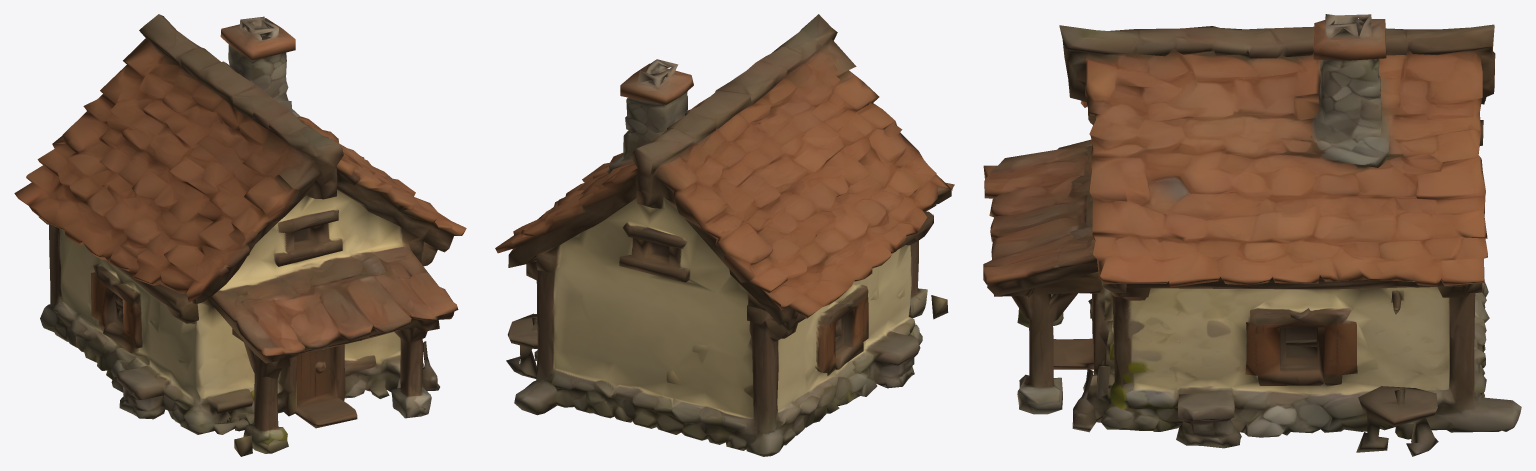
File: tripo_workshop.glb
3 views of the same model, side by side, from view 1: azimuth 30°, elevation 25°; view 2: azimuth 150°, elevation 25°; view 3: azimuth 270°, elevation 25° (orthographic). The views are drawn at different scales.
Parts seen in each view (by area): view 1: tripo_node_464bb2dd-c194-4cc4-9e9e-455e18cf1d54; view 2: tripo_node_464bb2dd-c194-4cc4-9e9e-455e18cf1d54; view 3: tripo_node_464bb2dd-c194-4cc4-9e9e-455e18cf1d54.
Boxes of the visible parts, x1,y1,x2,y2 form: tripo_node_464bb2dd-c194-4cc4-9e9e-455e18cf1d54: (14, 14, 466, 456); tripo_node_464bb2dd-c194-4cc4-9e9e-455e18cf1d54: (495, 14, 954, 456); tripo_node_464bb2dd-c194-4cc4-9e9e-455e18cf1d54: (983, 14, 1521, 456).
Size of the model in its own units: 0.8461 by 0.7596 by 1.
Materials: 1 (1 with a texture image).
